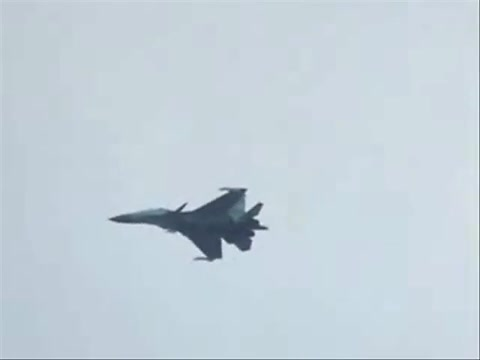aeroplane: (108, 187, 270, 263)
